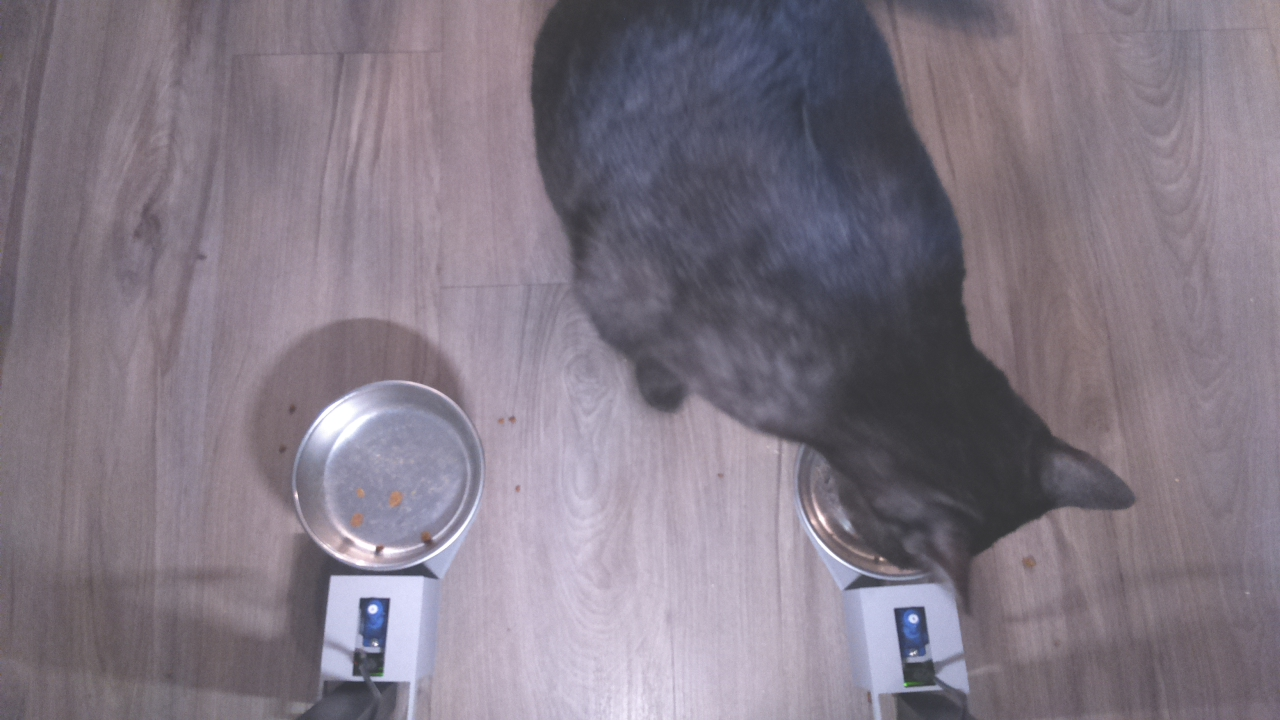open_bowl: (283, 373, 487, 578)
saki_eating: (783, 354, 1144, 619)
